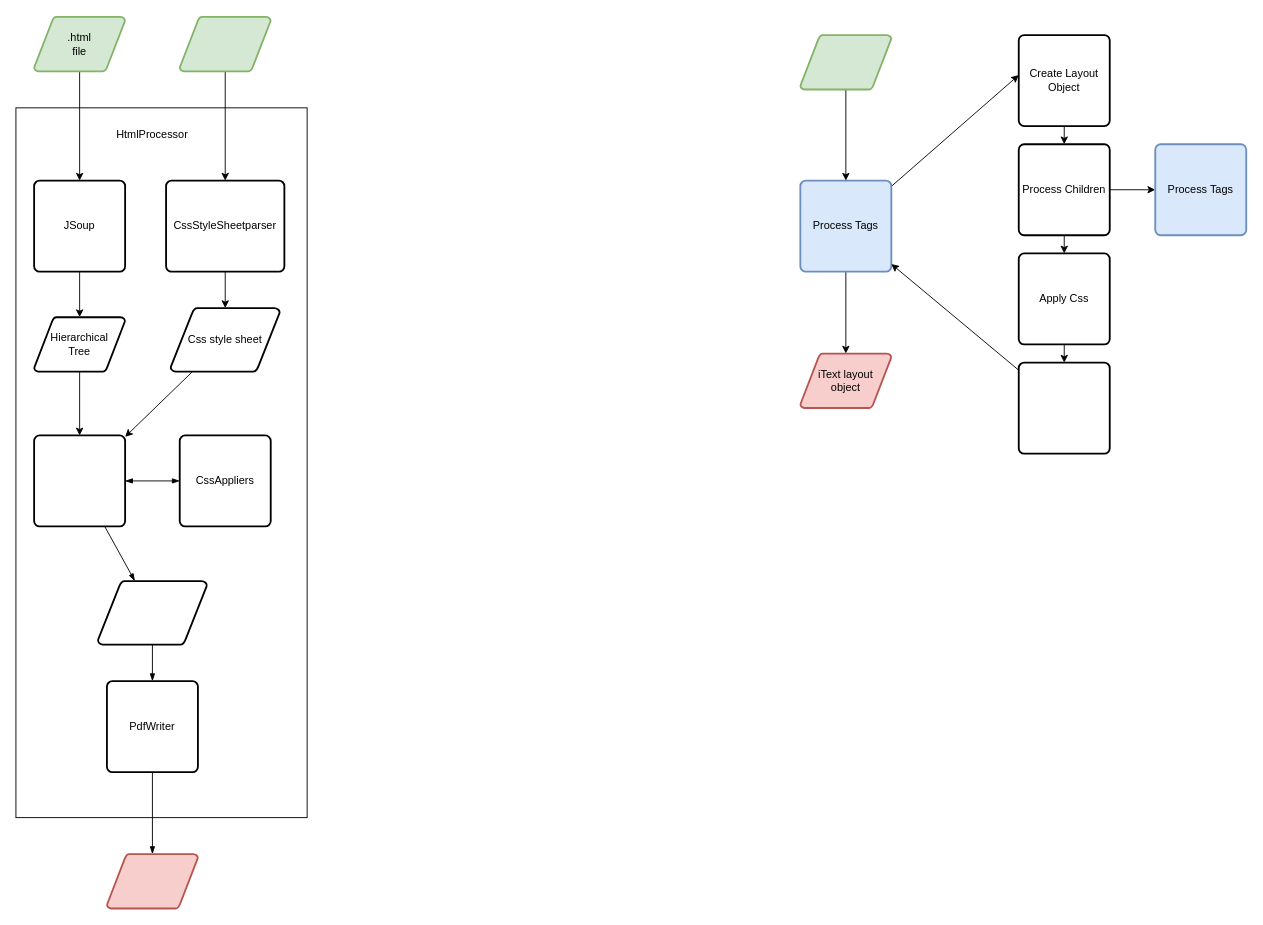
This 1263x925 diagram has some shape labels left out. The box of each missing label's shape, as (x1, y1, x2, y2) in pixels:
.css file: (178, 15, 271, 72)
.pdf file: (106, 853, 198, 909)
hand over Layout Object to parent: (1017, 361, 1110, 454)
iText PdfDocument: (96, 580, 207, 645)
TagWorkers: (33, 434, 126, 527)
Tree Node: (799, 34, 892, 90)
